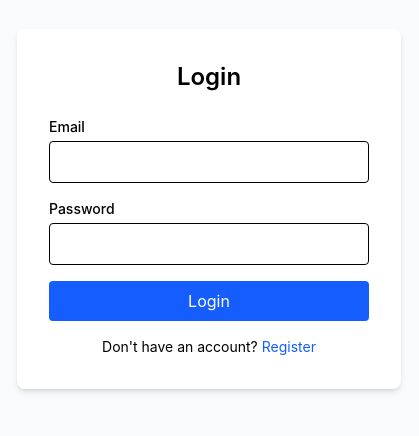
Test: Login page › shows an error message when login fails with invalid credentials
The width and height of the screenshot is (419, 436).
In the field labelled "Email": (209, 162) [49, 141, 369, 183], type "wrong@example.com"
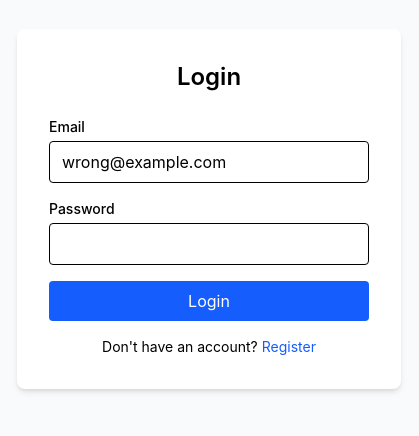
In the password field labelled "Password": (209, 244) [49, 223, 369, 265], type "wrongpassword"
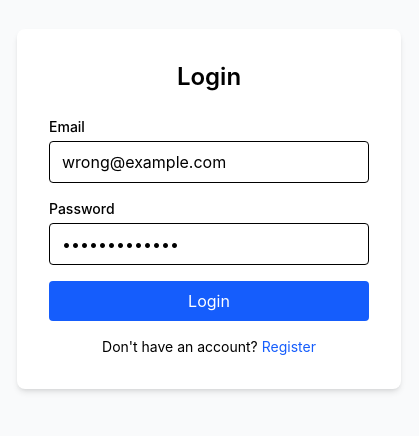
Click the button "Login": (209, 301) [49, 281, 369, 321]
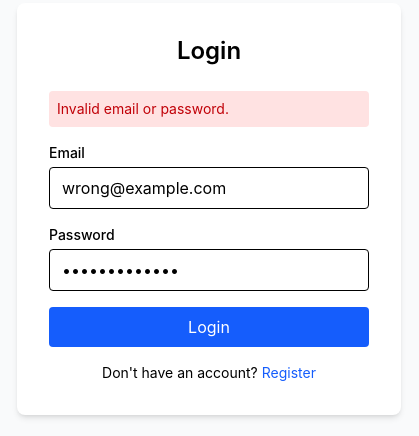
Now the text "Invalid email or password." is shown, box [49, 91, 369, 127]
